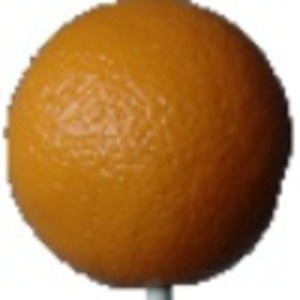laranja: (2, 3, 296, 299)
